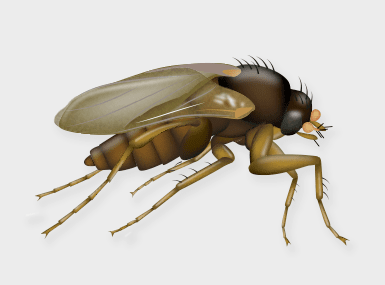phorid fly: (26, 42, 367, 273)
